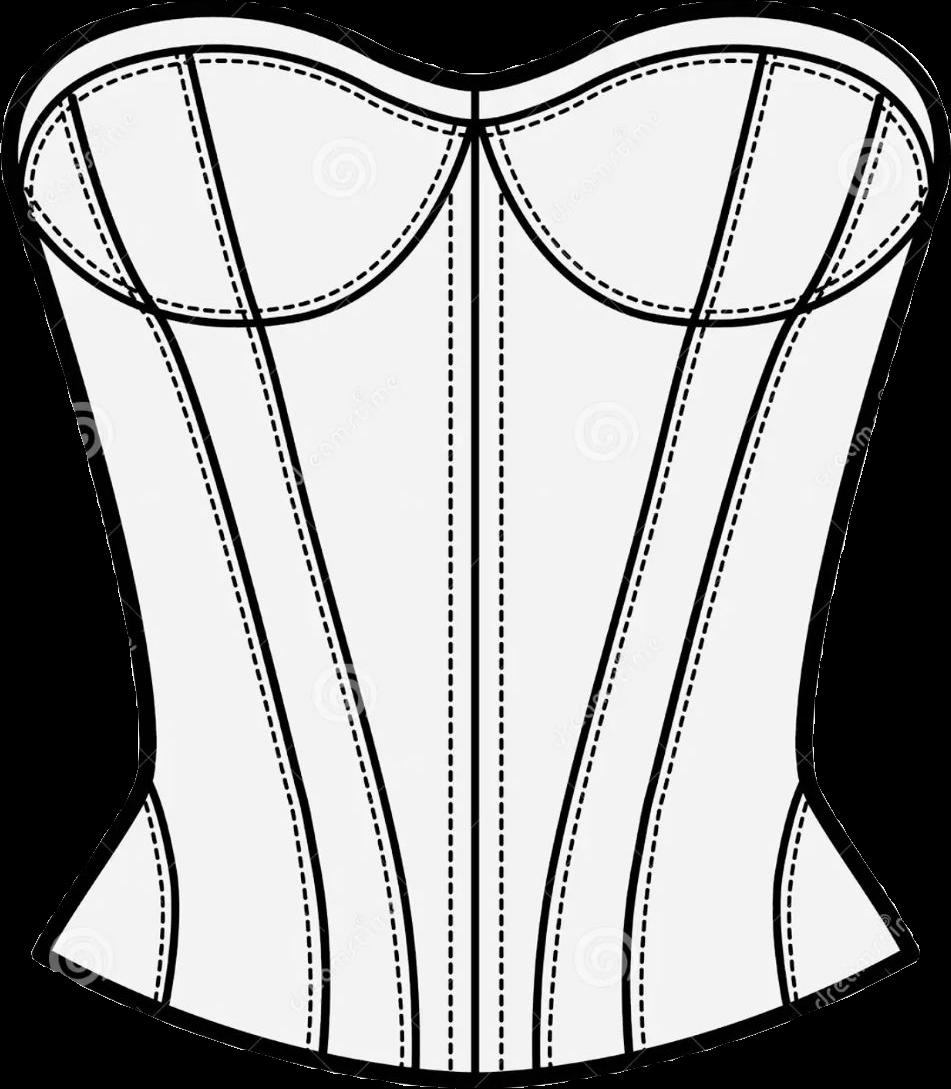Bodice: (0, 0, 950, 1087)
Neckline: (0, 0, 950, 139)
Waistline: (29, 945, 920, 1087)
